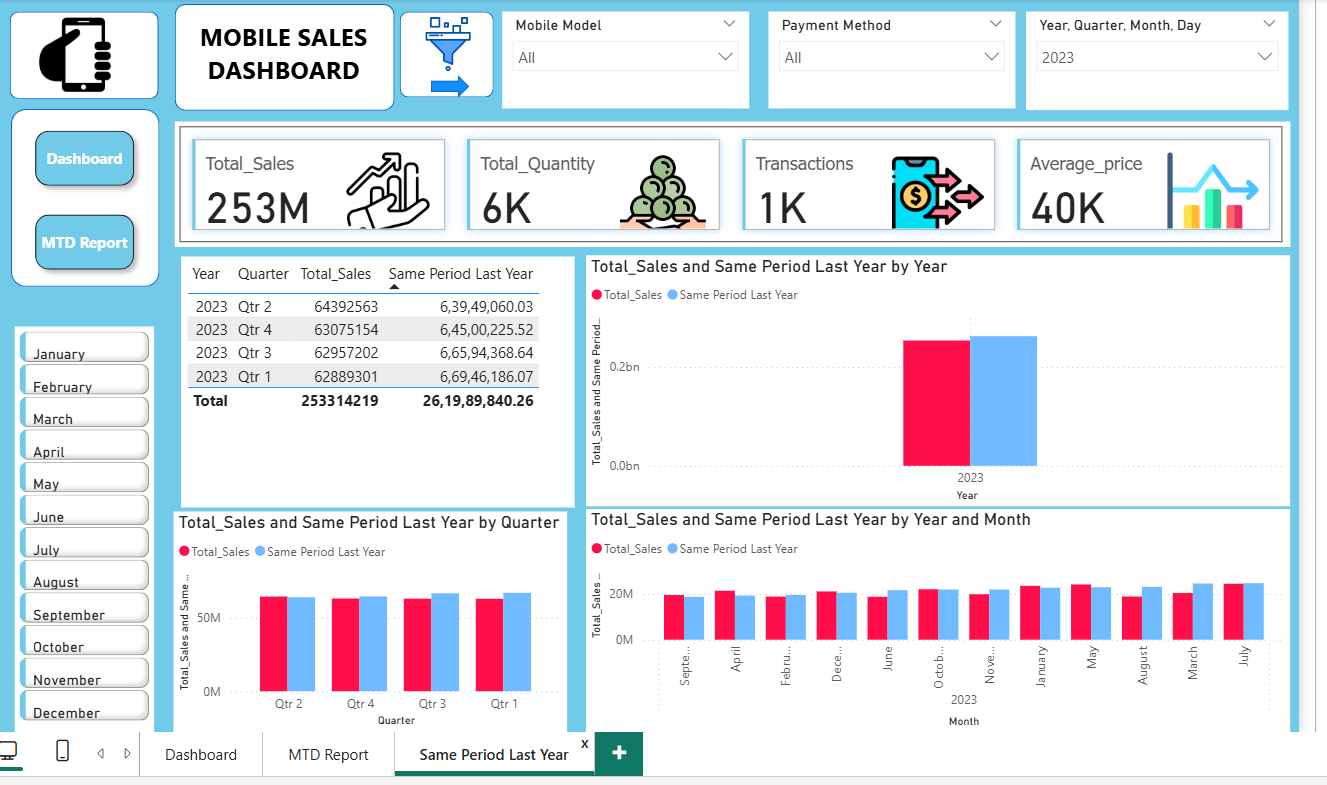

Layout of this report page (visuals, bound fields, positions):
{"tool":"powerbi","page":{"name":"Same Period Last Year","canvas":[1280,720],"ordinal":2},"visuals":[{"type":"shape","box":[14.4,108.2,145.7,174.6],"z":0},{"type":"shape","box":[14.1,12.8,146.2,85.9],"z":1000},{"type":"cardVisual","fields":{"Data":["Mobile_sales_data.Total_Sales","Mobile_sales_data.Total_Quantity","Mobile_sales_data.Transactions","Mobile_sales_data.Average_price"]},"box":[175,120.3,1095.3,123.4],"z":2000},{"type":"slicer","fields":{"Values":["Mobile_sales_data.Payment Method"]},"box":[757.8,12.5,242.2,95.3],"z":3000},{"type":"slicer","fields":{"Values":["Custom_calender.Date.Variation.Date Hierarchy.Year","Custom_calender.Date.Variation.Date Hierarchy.Quarter","Custom_calender.Date.Variation.Date Hierarchy.Month","Custom_calender.Date.Variation.Date Hierarchy.Day"]},"box":[1010.9,12.5,257.8,96.9],"z":4000},{"type":"shape","box":[396.9,12.5,92.2,84.4],"z":5000},{"type":"image","box":[390.6,12.5,107.8,64.1],"z":6000},{"type":"shape","box":[426.6,75,37.5,21.9],"z":7000},{"type":"shape","box":[175,4.7,215.6,104.7],"z":8000},{"type":"textbox","box":[181.2,15.6,201.6,82.8],"z":9000},{"type":"slicer","fields":{"Values":["Mobile_sales_data.Mobile Model"]},"box":[496.9,12.5,242.2,95.3],"z":10000},{"type":"advancedSlicerVisual","fields":{"Values":["Custom_calender.Date.Variation.Date Hierarchy.Month"]},"box":[18.8,321.7,137.1,398.2],"z":11000},{"type":"tableEx","fields":{"Values":["Custom_calender.Date.Variation.Date Hierarchy.Year","Custom_calender.Date.Variation.Date Hierarchy.Quarter","Mobile_sales_data.Total_Sales","Mobile_sales_data.Same Period Last Year"]},"box":[181.8,252.5,386.7,246.7],"z":12000},{"type":"clusteredColumnChart","fields":{"Category":["Custom_calender.Date.Variation.Date Hierarchy.Year","Custom_calender.Date.Variation.Date Hierarchy.Quarter"],"Y":["Mobile_sales_data.Total_Sales","Mobile_sales_data.Same Period Last Year"]},"box":[578.5,251,691.1,246.7],"z":13000},{"type":"clusteredColumnChart","fields":{"Category":["Custom_calender.Date.Variation.Date Hierarchy.Year","Custom_calender.Date.Variation.Date Hierarchy.Quarter"],"Y":["Mobile_sales_data.Total_Sales","Mobile_sales_data.Same Period Last Year"]},"box":[174.6,503.5,386.7,216.4],"z":14000},{"type":"clusteredColumnChart","fields":{"Category":["Custom_calender.Date.Variation.Date Hierarchy.Year","Custom_calender.Date.Variation.Date Hierarchy.Month","Custom_calender.Date.Variation.Date Hierarchy.Day"],"Y":["Mobile_sales_data.Total_Sales","Mobile_sales_data.Same Period Last Year"]},"box":[578.5,500.6,691.1,219.3],"z":15000},{"type":"pageNavigator","box":[28.9,119.7,115.4,155.8],"z":16000},{"type":"image","box":[14.4,13,125.5,82.2],"z":16001}]}

Visuals, with their boxes in screenshot pixels (x1, y1, x2, y2):
shape: [x1=8, y1=107, x2=157, y2=286]
shape: [x1=8, y1=10, x2=157, y2=97]
cardVisual - Mobile_sales_data.Total_Sales x Mobile_sales_data.Total_Quantity: [x1=172, y1=120, x2=1292, y2=246]
slicer - Mobile_sales_data.Payment Method: [x1=768, y1=9, x2=1015, y2=107]
slicer - Custom_calender.Date.Variation.Date Hierarchy.Year x Custom_calender.Date.Variation.Date Hierarchy.Quarter: [x1=1027, y1=9, x2=1290, y2=108]
shape: [x1=399, y1=9, x2=493, y2=96]
image: [x1=392, y1=9, x2=503, y2=75]
shape: [x1=429, y1=73, x2=468, y2=96]
shape: [x1=172, y1=1, x2=392, y2=108]
textbox: [x1=178, y1=12, x2=384, y2=97]
slicer - Mobile_sales_data.Mobile Model: [x1=501, y1=9, x2=749, y2=107]
advancedSlicerVisual - Custom_calender.Date.Variation.Date Hierarchy.Month: [x1=12, y1=325, x2=152, y2=733]
tableEx - Custom_calender.Date.Variation.Date Hierarchy.Year x Custom_calender.Date.Variation.Date Hierarchy.Quarter: [x1=179, y1=255, x2=574, y2=507]
clusteredColumnChart - Custom_calender.Date.Variation.Date Hierarchy.Year x Custom_calender.Date.Variation.Date Hierarchy.Quarter: [x1=585, y1=253, x2=1291, y2=505]
clusteredColumnChart - Custom_calender.Date.Variation.Date Hierarchy.Year x Custom_calender.Date.Variation.Date Hierarchy.Quarter: [x1=172, y1=511, x2=567, y2=733]
clusteredColumnChart - Custom_calender.Date.Variation.Date Hierarchy.Year x Custom_calender.Date.Variation.Date Hierarchy.Month: [x1=585, y1=508, x2=1291, y2=733]
pageNavigator: [x1=23, y1=119, x2=141, y2=278]
image: [x1=8, y1=10, x2=136, y2=94]
